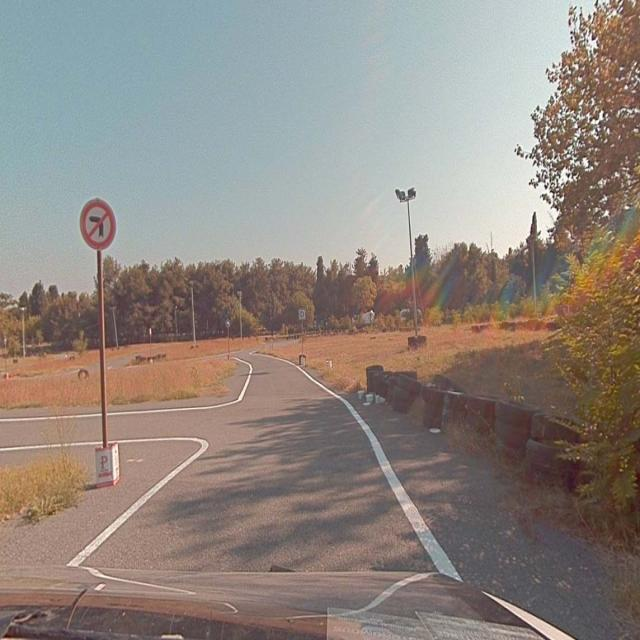durak: (299, 310, 305, 319)
soladonulmez: (81, 200, 114, 247)
